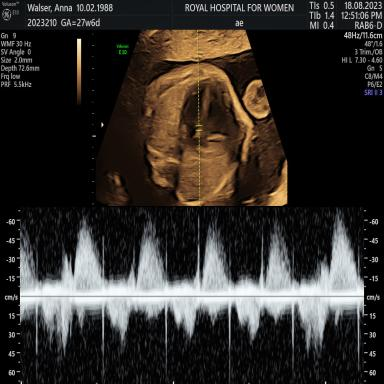Ultrasound-Waves: (25, 207, 359, 384)
